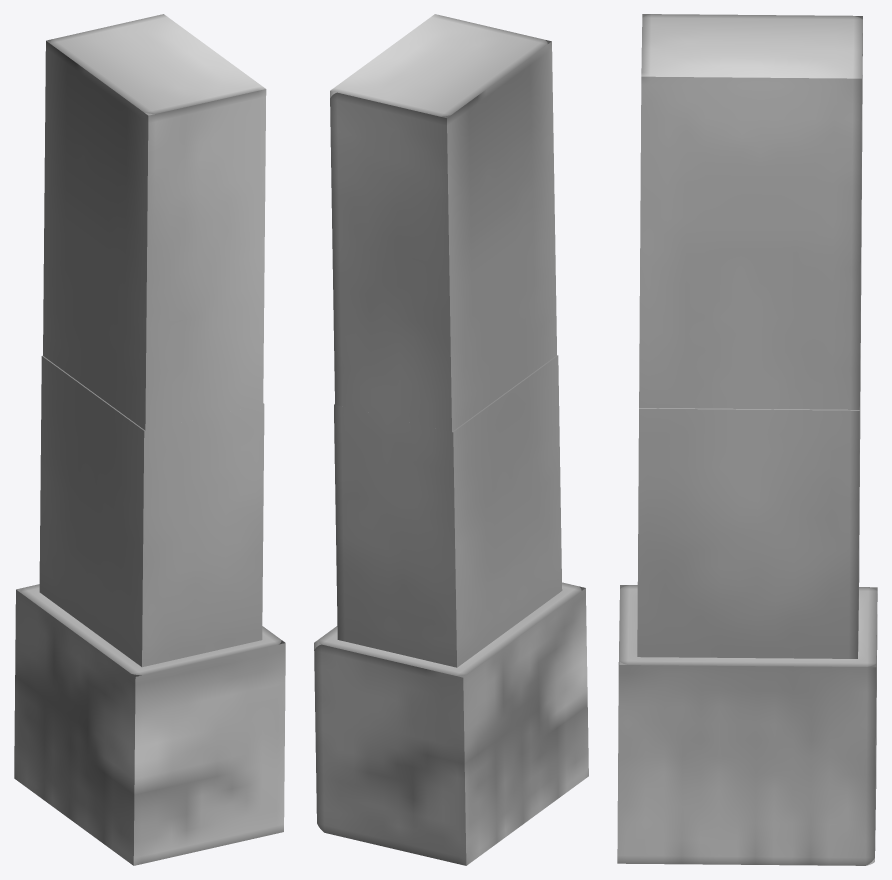
The model's file is left_hand.obj.
The picture shows the model from 3 angles, left to right: view 1: azimuth 30°, elevation 25°; view 2: azimuth 150°, elevation 25°; view 3: azimuth 270°, elevation 25°; orthographic projection. The views are drawn at different scales.
Visible parts, largest first — view 1: L-Arm, L-Hand, L-Forearm; view 2: L-Arm, L-Hand, L-Forearm; view 3: L-Arm, L-Hand, L-Forearm.
Part boxes in pixels (x1,y1,x2,y2): L-Arm: [43, 14, 266, 430]; L-Hand: [14, 584, 285, 865]; L-Forearm: [39, 355, 264, 676]; L-Arm: [330, 14, 556, 431]; L-Hand: [314, 582, 588, 865]; L-Forearm: [334, 355, 562, 677]; L-Arm: [639, 14, 862, 409]; L-Hand: [617, 585, 877, 865]; L-Forearm: [637, 366, 860, 658].
Bounding box in the file's own units: 0.6411 × 2.95 × 0.8841.
